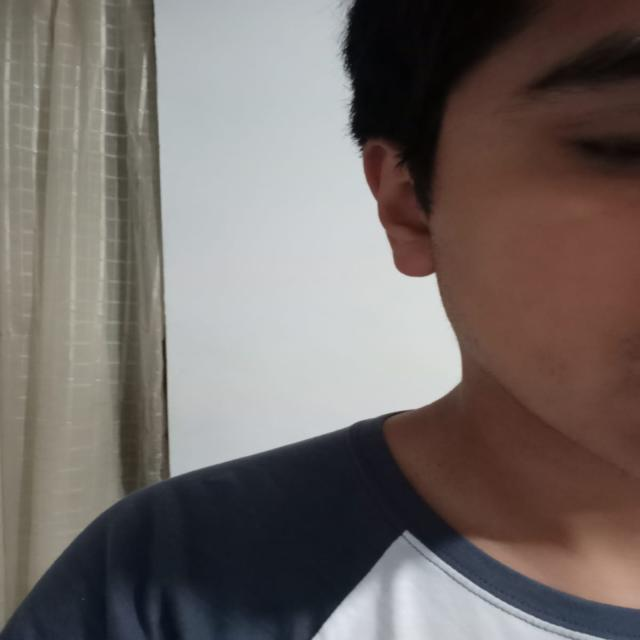ear: (362, 139, 435, 276)
